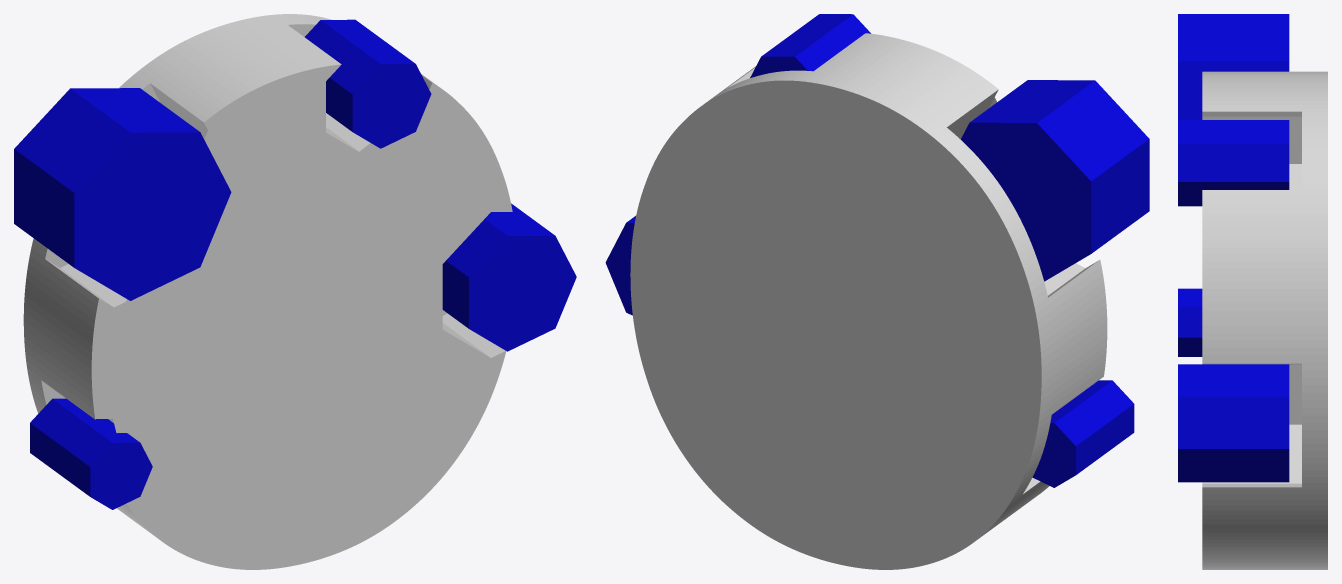
The model's file is Ch_Lite_O_01.fbx.
The picture shows the model from 3 angles, left to right: view 1: azimuth 30°, elevation 25°; view 2: azimuth 150°, elevation 25°; view 3: azimuth 270°, elevation 25°; orthographic projection. The views are drawn at different scales.
Visible parts, largest first — view 1: sphere1; view 2: sphere1; view 3: sphere1.
Boxes of the visible parts, x1,y1,x2,y2 form: sphere1: (14, 14, 576, 569); sphere1: (605, 14, 1149, 569); sphere1: (1178, 14, 1327, 569).
Bounding box in the file's own units: 0.854 × 0.8019 × 0.2387.
